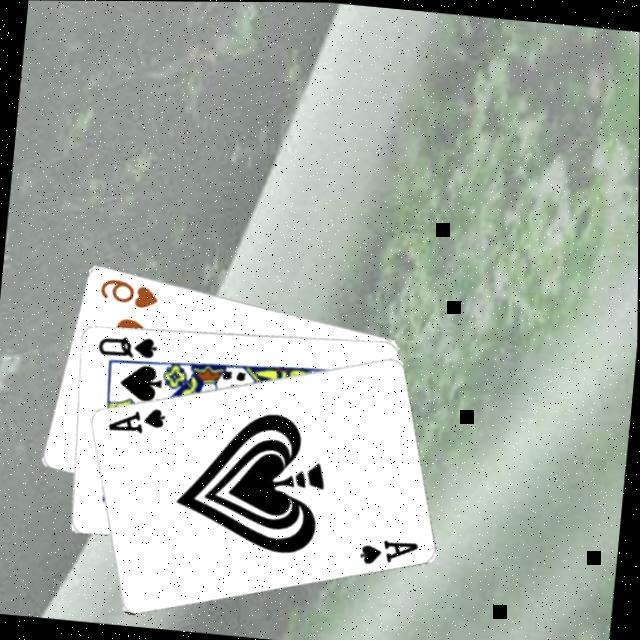6H: (93, 272, 160, 310)
AS: (353, 532, 420, 569), (102, 399, 167, 436)
QS: (92, 328, 158, 361)
